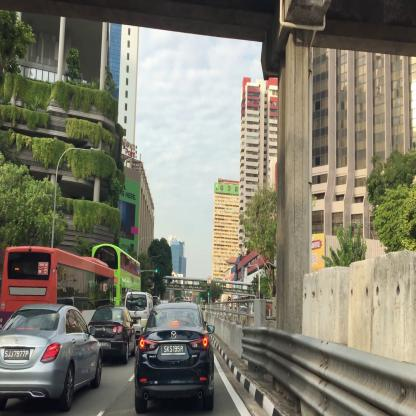green_traffic_light: (207, 285, 209, 295), (155, 270, 160, 272)
